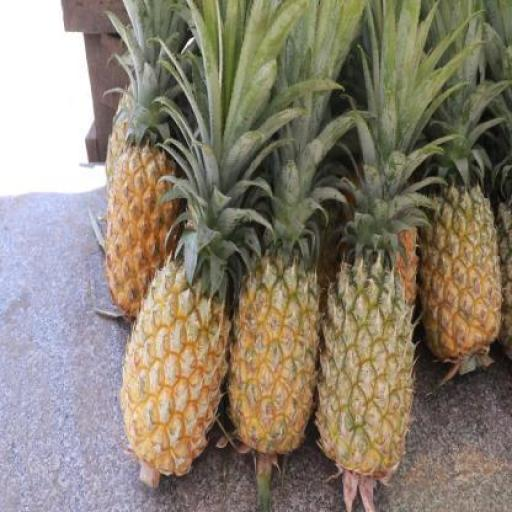------------------------------: (317, 261, 414, 464)
Pineapple - v8 v1: (120, 264, 227, 476), (225, 260, 318, 455), (106, 140, 183, 326), (418, 192, 498, 359)
